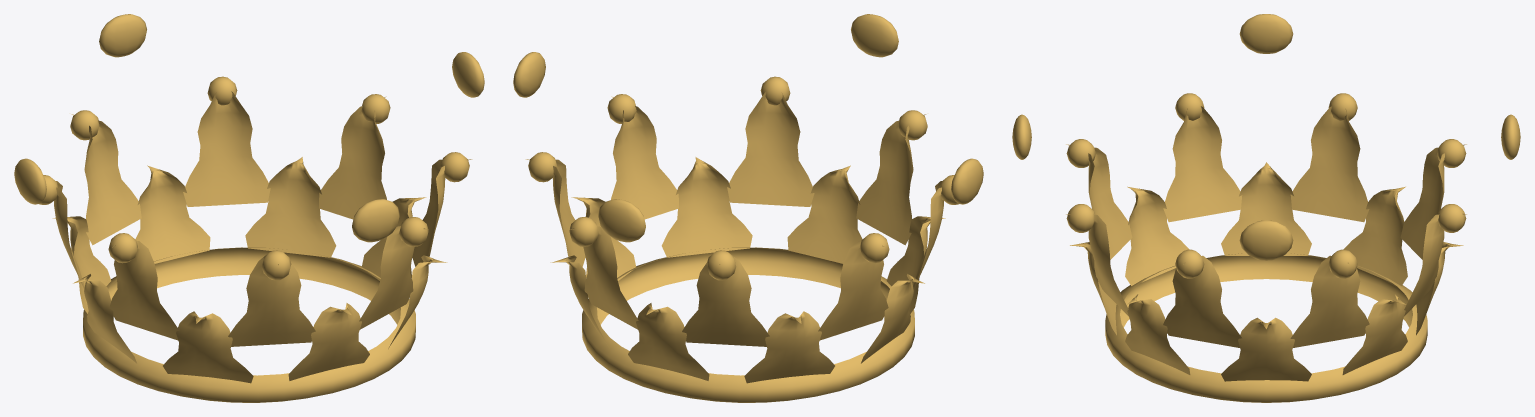
File: KRM_M41_P8_column_corinthian_acanthus_gilt.fbx
The picture shows the model from 3 angles, left to right: view 1: azimuth 30°, elevation 25°; view 2: azimuth 150°, elevation 25°; view 3: azimuth 270°, elevation 25°; orthographic projection. The views are drawn at different scales.
Parts seen in each view (by area): view 1: KRM_M41_P8_column_corinthian_acanthus_gilt; view 2: KRM_M41_P8_column_corinthian_acanthus_gilt; view 3: KRM_M41_P8_column_corinthian_acanthus_gilt.
Boxes of the visible parts, box(x1,y1,x2,y2) form: KRM_M41_P8_column_corinthian_acanthus_gilt: box(14, 14, 484, 402); KRM_M41_P8_column_corinthian_acanthus_gilt: box(513, 14, 983, 402); KRM_M41_P8_column_corinthian_acanthus_gilt: box(1012, 14, 1520, 402).
Bounding box in the file's own units: 104 × 50.5 × 104.
Materials: 1 (1 with a texture image).
